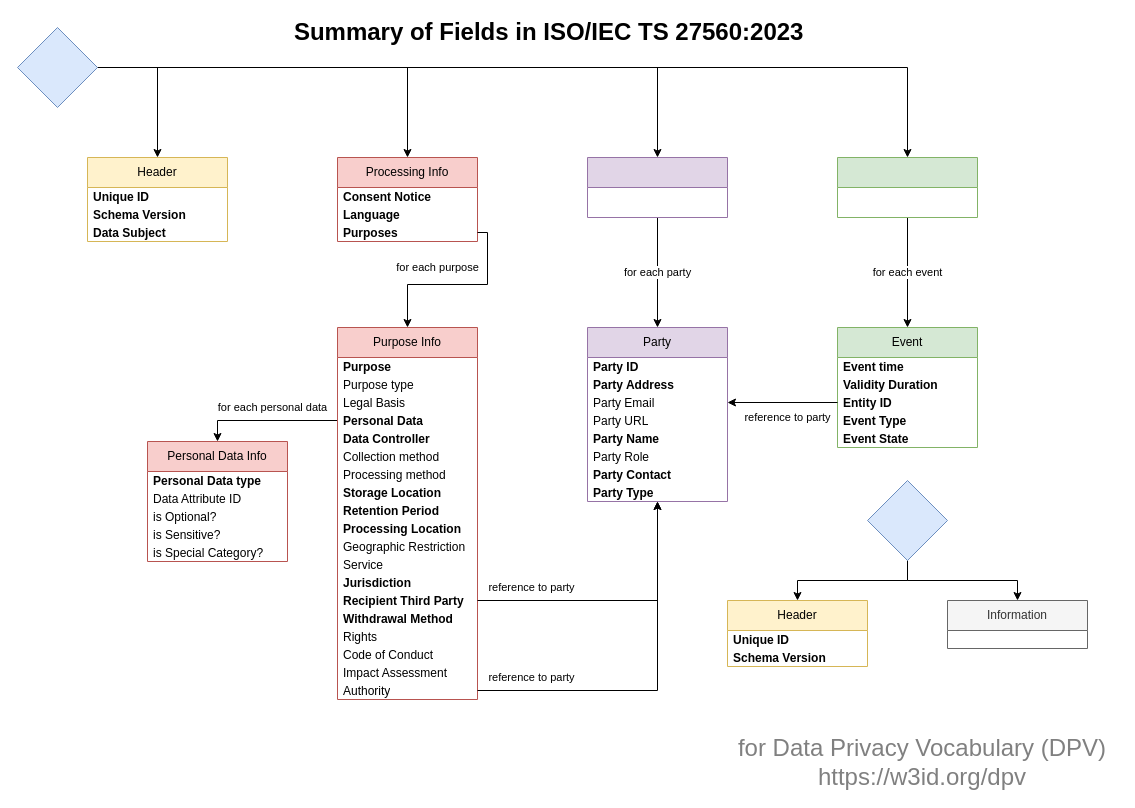
The diagram is 1135 pixels wide and 808 high, and some of its shapes have lost their labels. Each missing label, with the centre of its shape:
"Consent Receipt" belongs at (x=907, y=520).
"Consent Record" belongs at (x=57, y=67).
"Events" belongs at (x=907, y=187).
"Parties" belongs at (x=657, y=187).
